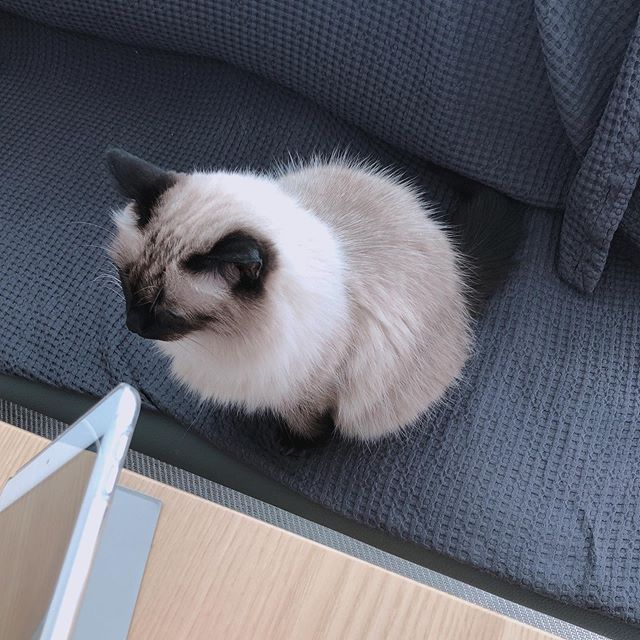cat: (94, 145, 287, 349)
